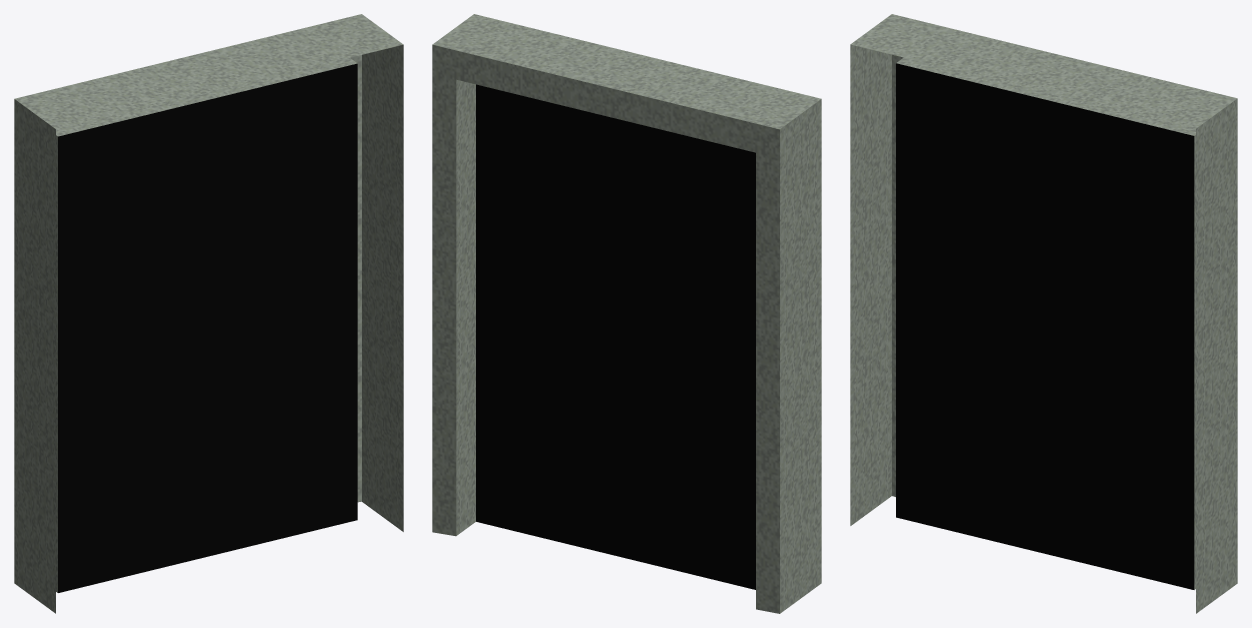
Rendered from BGN_DOOR (3).fbx.
3 views of the same model, side by side, from view 1: azimuth 30°, elevation 25°; view 2: azimuth 150°, elevation 25°; view 3: azimuth 330°, elevation 25° (orthographic).
Parts seen in each view (by area): view 1: BGN_DOOR__3_; view 2: BGN_DOOR__3_; view 3: BGN_DOOR__3_.
Part boxes in pixels (x1,y1,x2,y2): BGN_DOOR__3_: [14, 14, 403, 613]; BGN_DOOR__3_: [432, 14, 821, 613]; BGN_DOOR__3_: [850, 14, 1237, 613].
Size of the model in its own units: 231 by 310 by 48.2.
2 materials, 2 textured.
